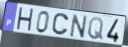0: (35, 10, 51, 35)
4: (106, 18, 121, 44)
C: (51, 13, 70, 37)
H: (15, 7, 35, 34)
N: (69, 13, 89, 39)
Q: (87, 17, 105, 42)
